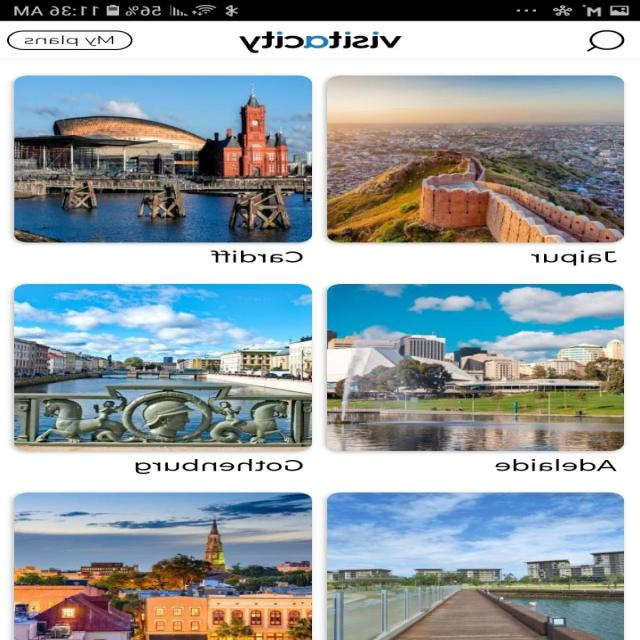Icon: (587, 30, 625, 52)
Image: (14, 75, 313, 243), (15, 283, 313, 451), (327, 283, 624, 451), (327, 76, 624, 242), (15, 492, 313, 640), (328, 492, 624, 640), (239, 31, 402, 53)
Text: (136, 458, 304, 474), (495, 458, 617, 471), (531, 250, 617, 265), (210, 250, 304, 262)
TextButton: (7, 30, 134, 50)
